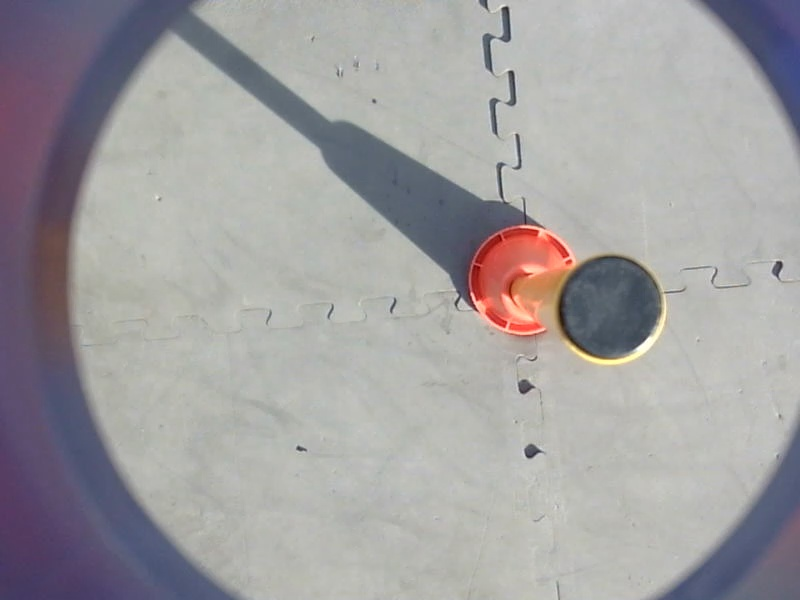tip: (550, 250, 671, 371)
